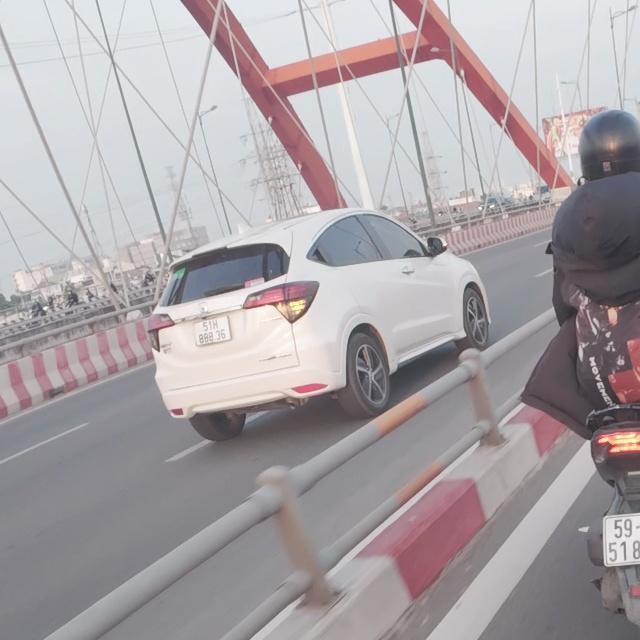car: (148, 209, 500, 442)
motorcycle: (560, 400, 640, 640)
plate: (592, 508, 640, 573), (194, 317, 234, 350)
